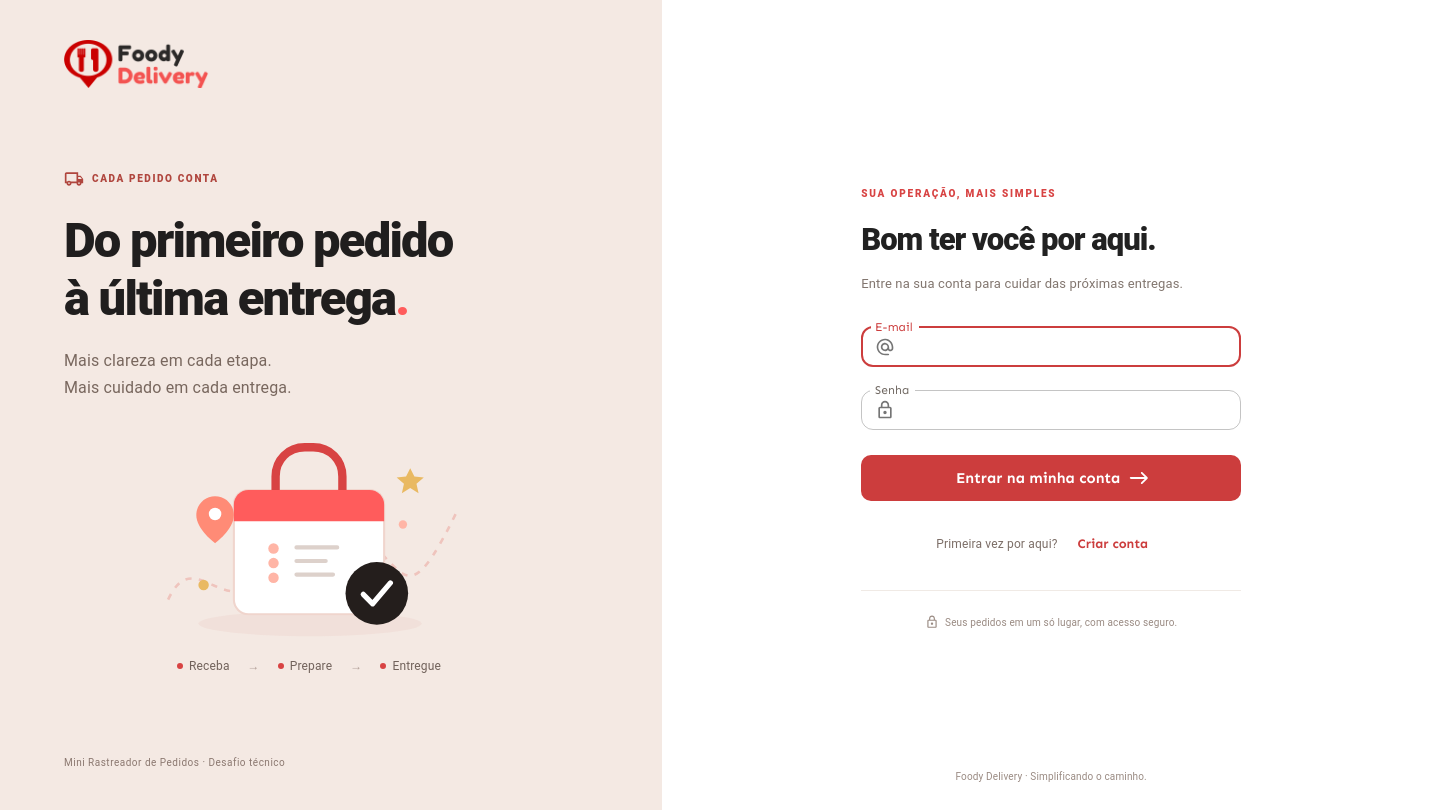
Test: autenticação › exibe credenciais inválidas sem autenticar
This screenshot has width=1440, height=810.
Step 1. Type "ana@example.com" into the field labelled "E-mail" → (1072, 347), box [903, 327, 1241, 367]
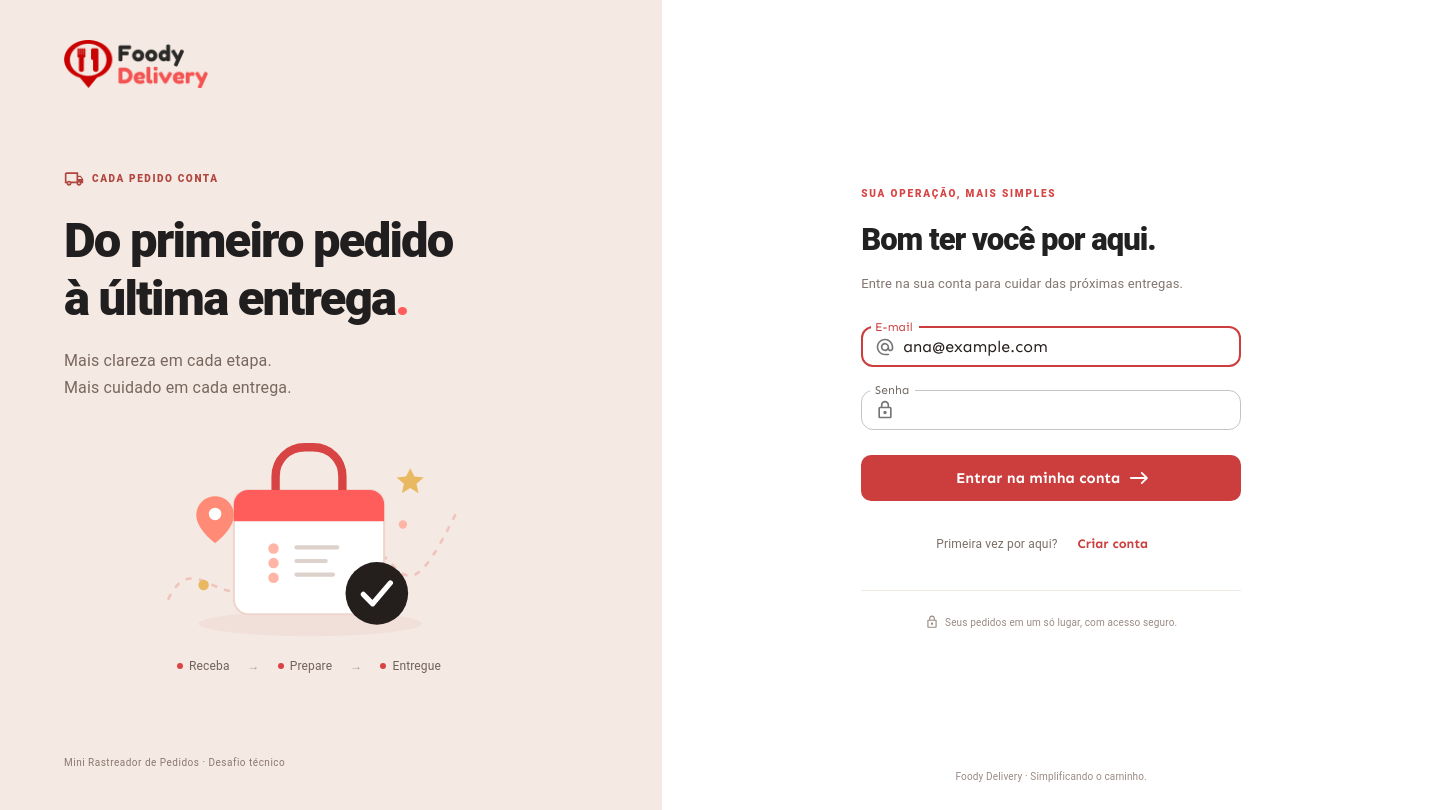
Step 2. Type "senhaerrada" into the password field labelled "Senha" → (1072, 410), box [903, 390, 1241, 430]
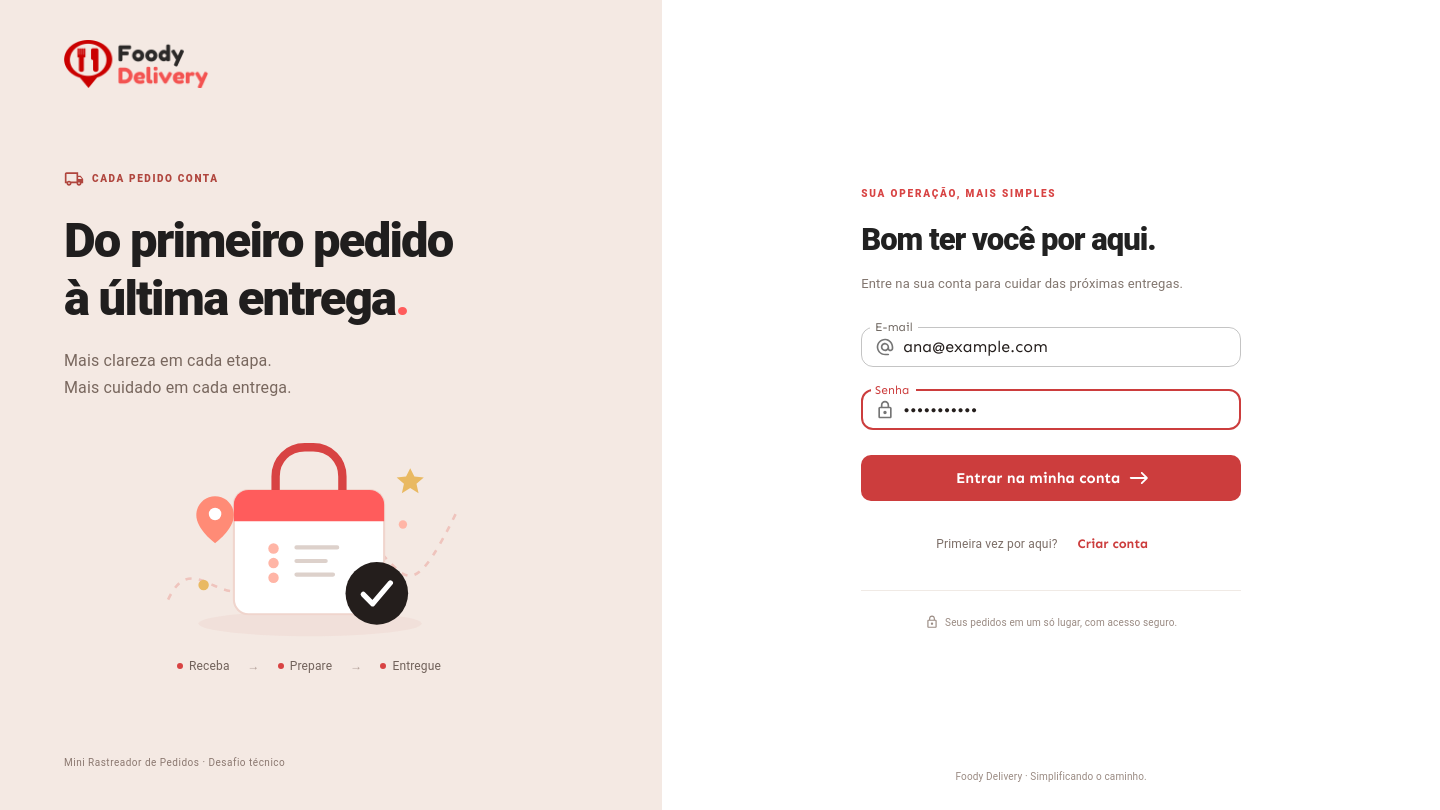
Step 3. Click the button "Entrar na minha conta" → (1051, 478), box [861, 455, 1241, 501]
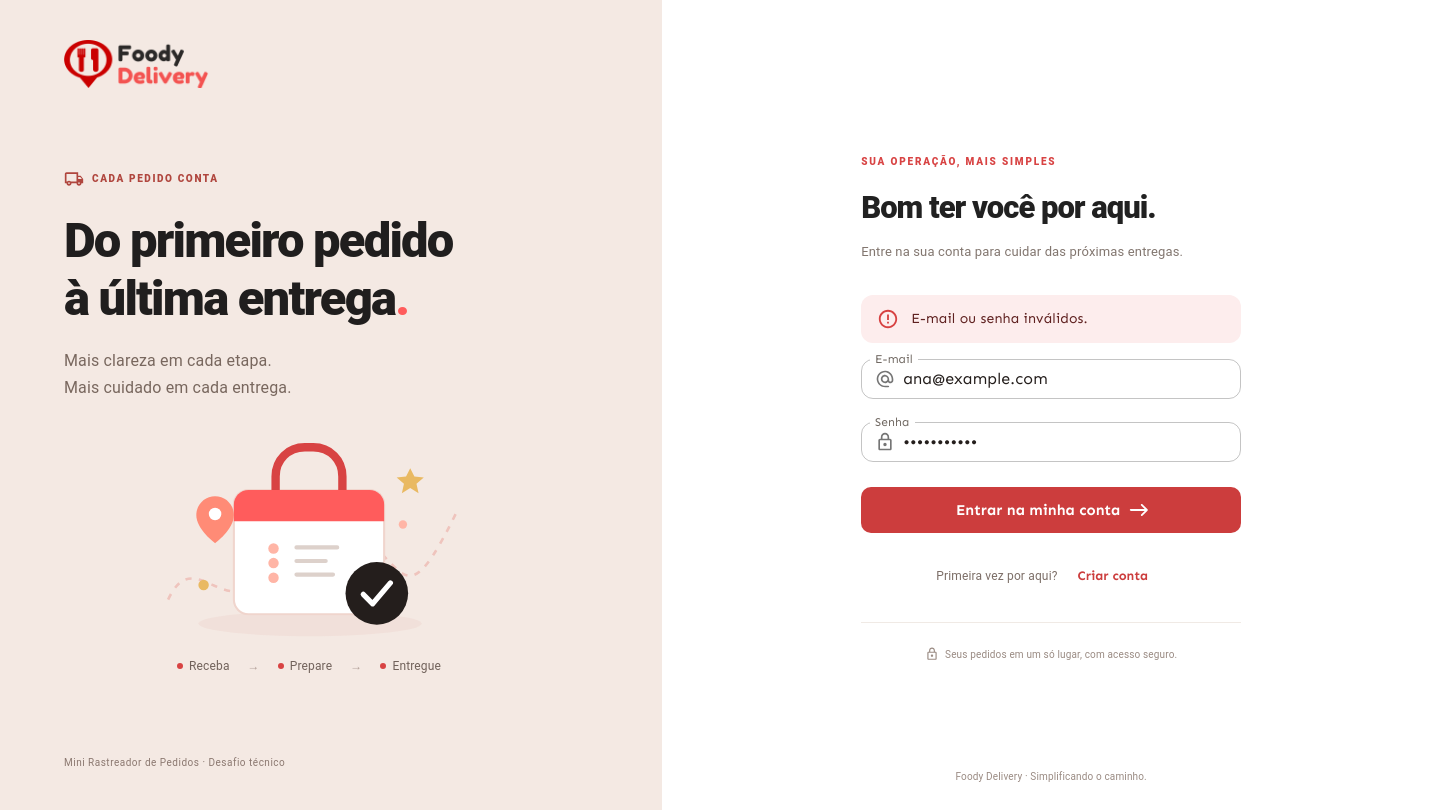
Result: the message reads "E-mail ou senha inválidos." at [911, 310, 1088, 327]
